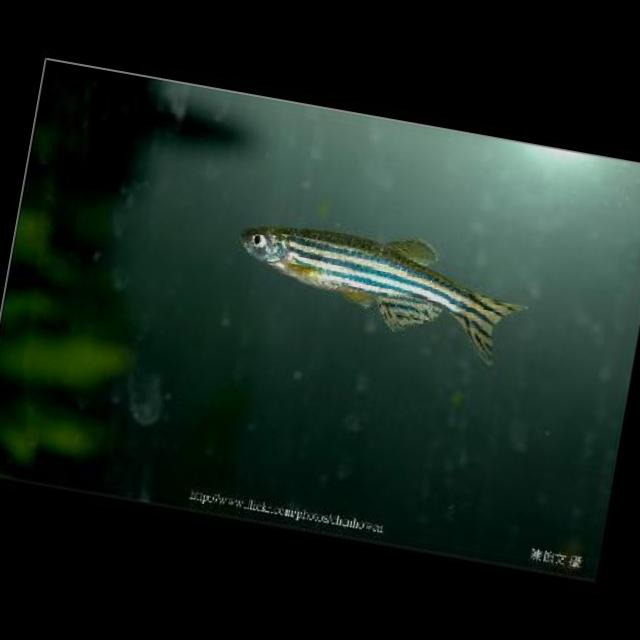ZebraFish: (226, 206, 534, 364)
